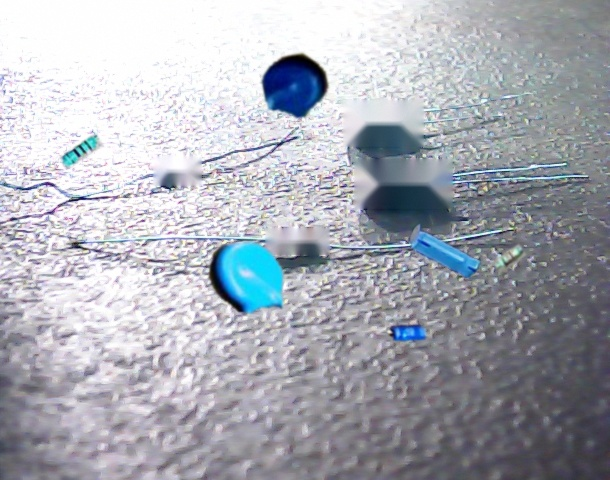capacitor: (209, 242, 283, 313), (262, 53, 329, 118), (409, 224, 481, 279), (387, 324, 427, 342)
resistor: (60, 134, 103, 169), (493, 244, 526, 272)
